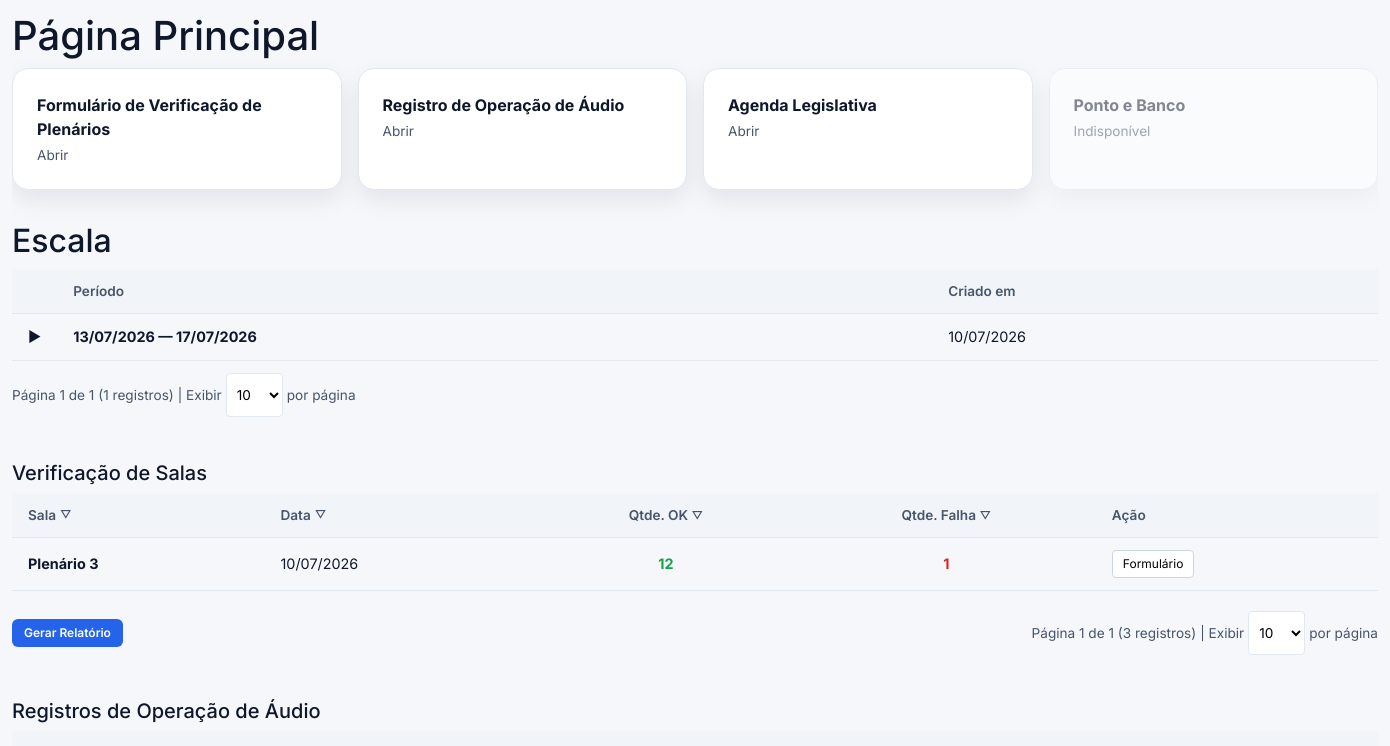
Test: HomeComponent (canal de erro das listagens) › seção Escala › acordeão (drill-down por escala) › sem cache sticky: fechar e reabrir REFAZ o GET (e o sucesso renderiza o resumo)
Click the row with class "escala-row": click(695, 337) [12,314,1378,360]
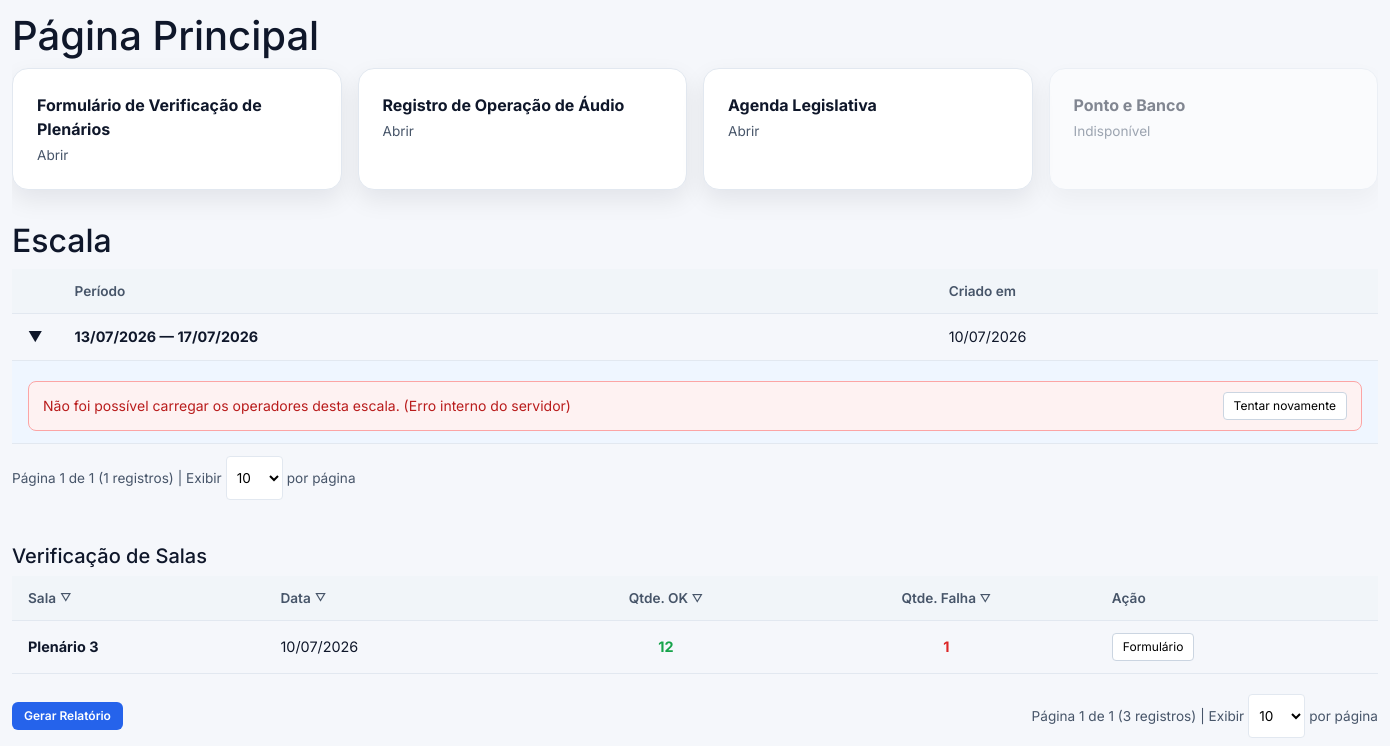
Click the row with class "escala-row": click(695, 337) [12,314,1378,360]
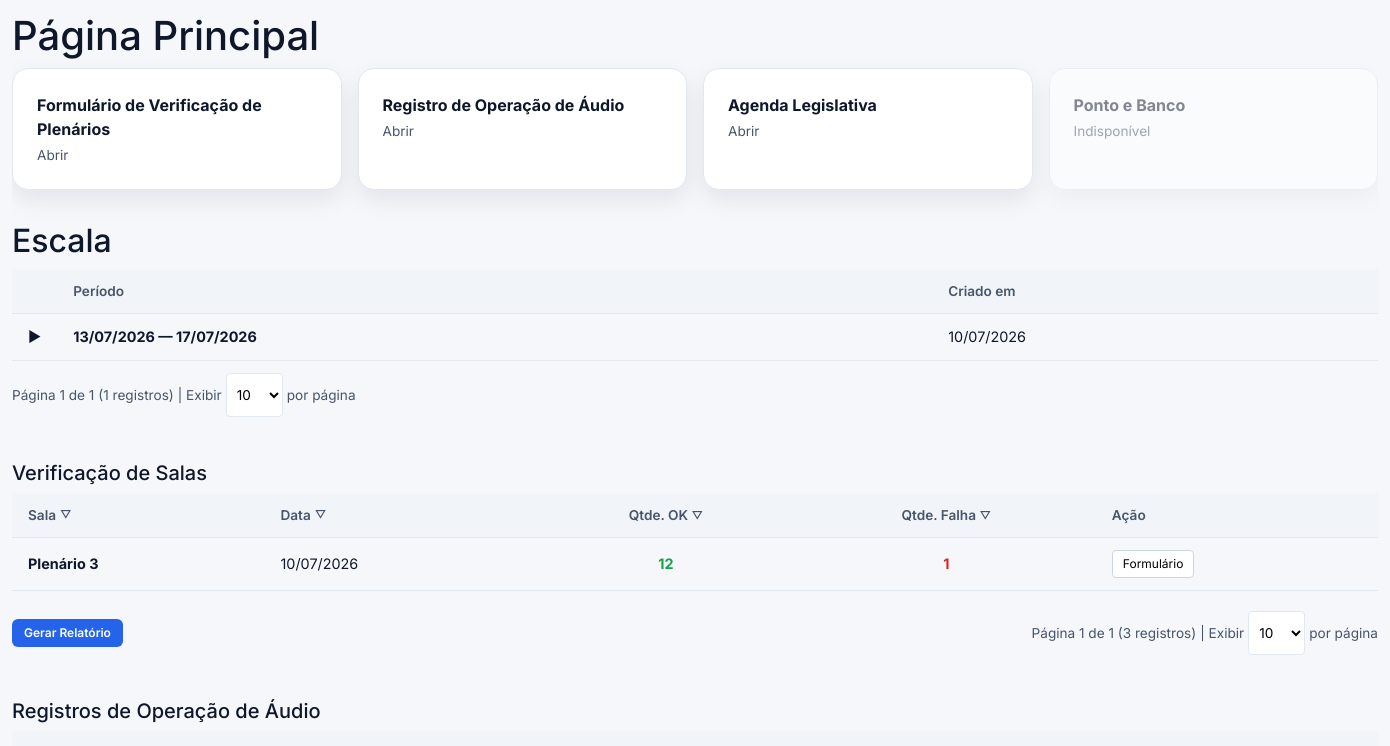
Click the row with class "escala-row": click(695, 337) [12,314,1378,360]
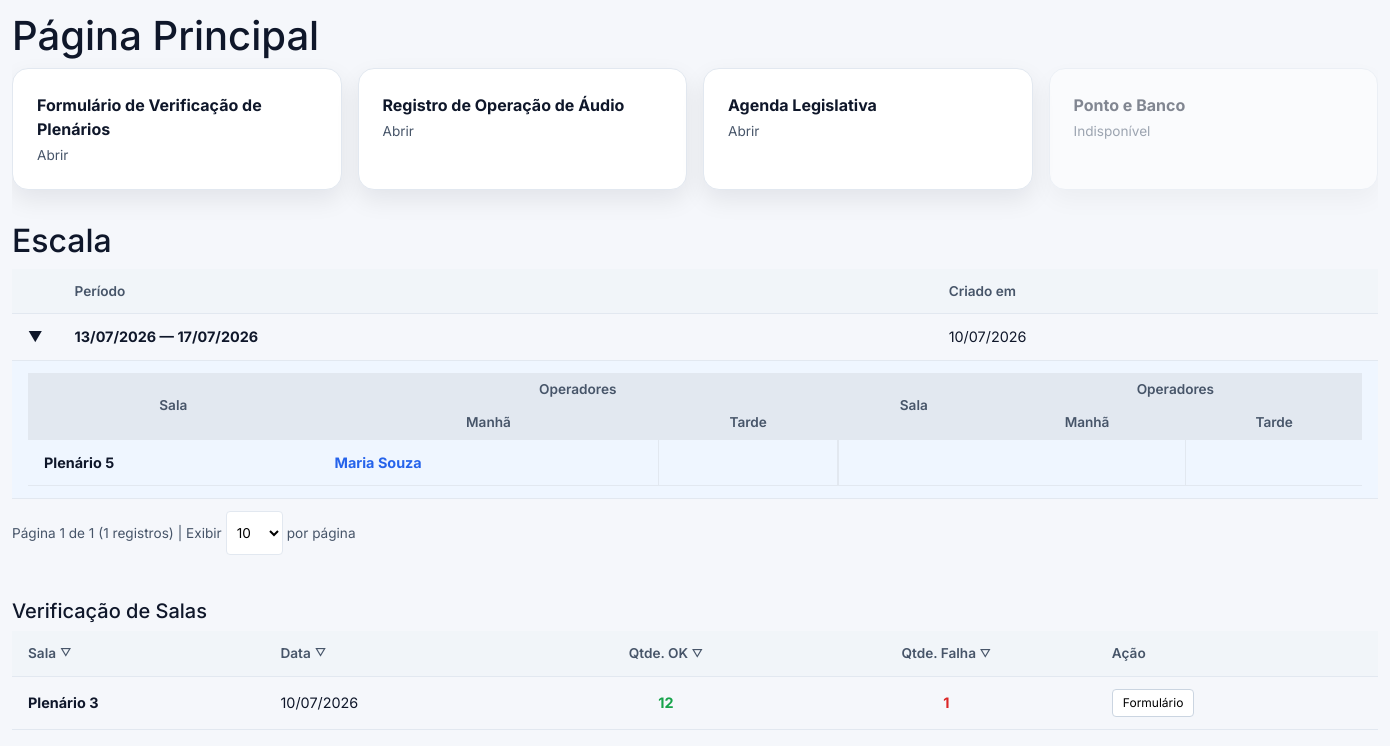
Expected: the element with class "escala-section" shows "Plenário 5", [44,454,114,471]
Expected: the element with class "escala-section" shows "Maria Souza", [334,454,422,471]
